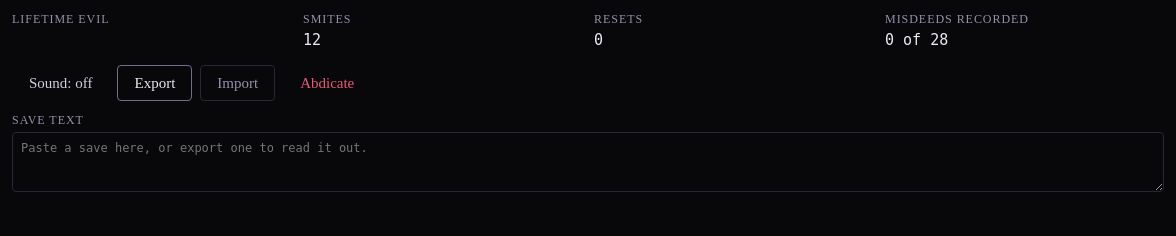
Test: Ledger › says so when a blob will not load
In the text box labelled "Save text": (588, 162) x1=12 y1=132 x2=1164 y2=192, type "rubbish"
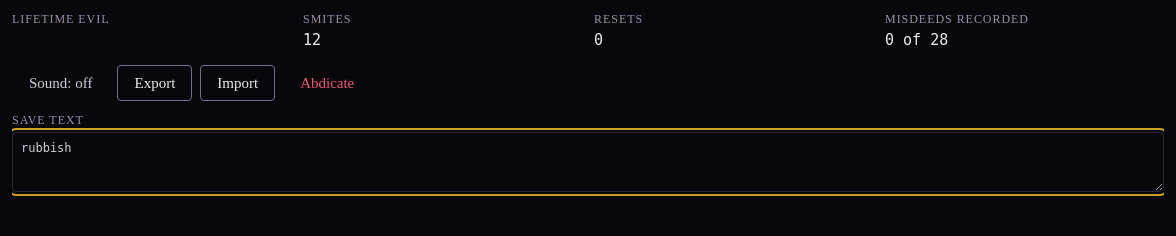
Click the button "Import": (238, 83) x1=200 y1=65 x2=275 y2=101
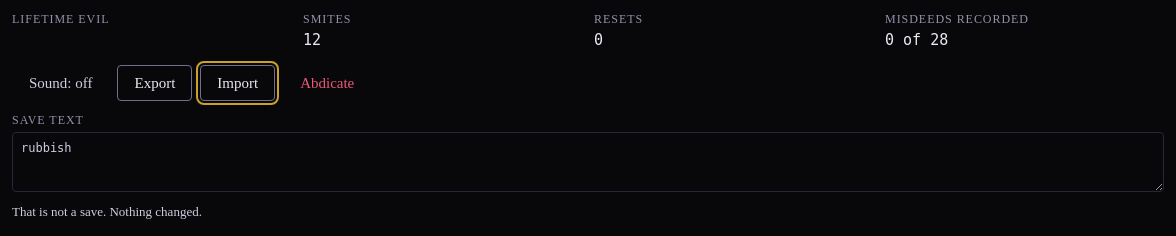
Result: the message reads "That is not a save. Nothing changed." at x1=12 y1=204 x2=202 y2=219
